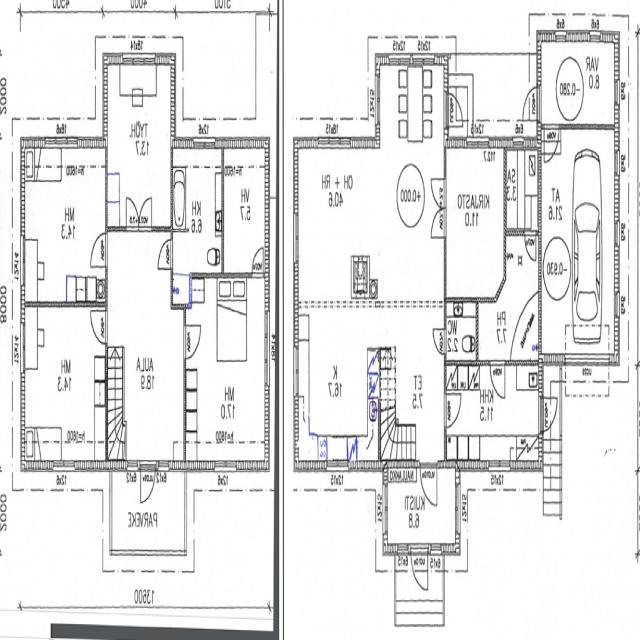door: (411, 543, 428, 595), (420, 461, 437, 507), (140, 460, 156, 508), (522, 87, 542, 120), (539, 398, 558, 431), (444, 94, 463, 127), (490, 360, 505, 398), (544, 124, 559, 162), (444, 394, 461, 427), (91, 311, 107, 344), (184, 326, 200, 358), (91, 234, 107, 266), (138, 197, 152, 232), (158, 239, 173, 270), (126, 197, 139, 232), (431, 179, 446, 209), (431, 209, 446, 238), (525, 228, 536, 261), (252, 248, 264, 278), (433, 329, 446, 354)
